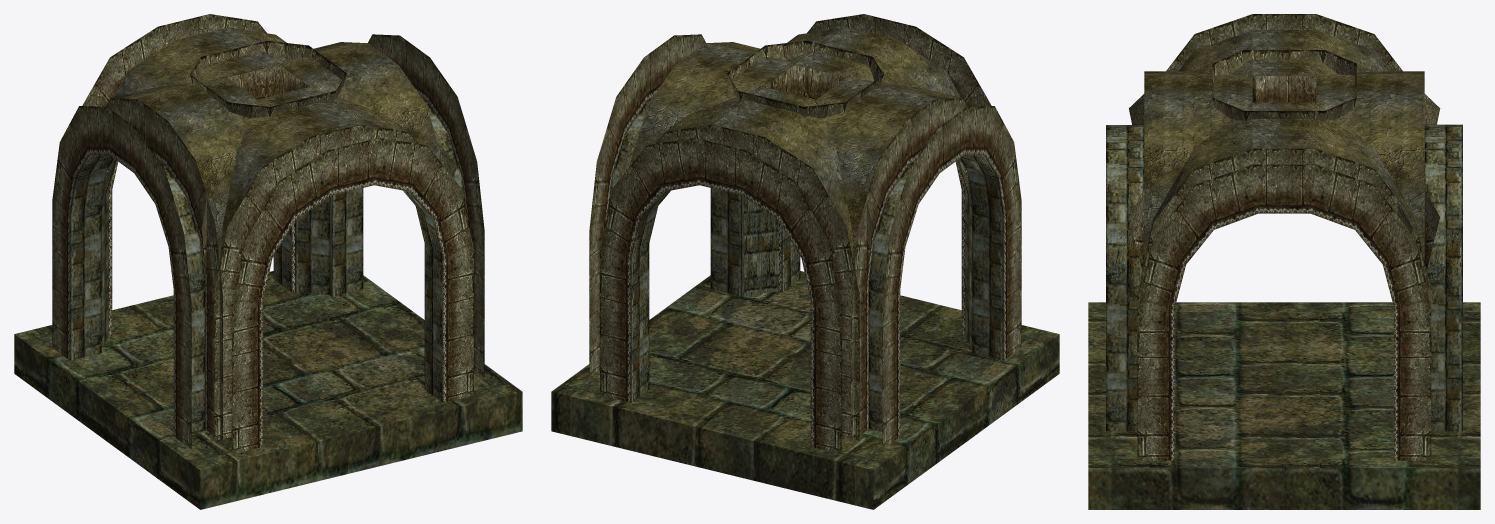
Rendered from cci06.glb.
3 views of the same model, side by side, from view 1: azimuth 30°, elevation 25°; view 2: azimuth 150°, elevation 25°; view 3: azimuth 270°, elevation 25° (orthographic). The views are drawn at different scales.
Parts seen in each view (by area): view 1: cci06-col; view 2: cci06-col; view 3: cci06-col.
Boxes of the visible parts, <box> form: cci06-col: <box>14,14,522,509</box>; cci06-col: <box>551,14,1059,509</box>; cci06-col: <box>1088,14,1480,509</box>.
Bounding box in the file's own units: 3.4 × 3.31 × 3.4.
4 materials, 4 textured.
